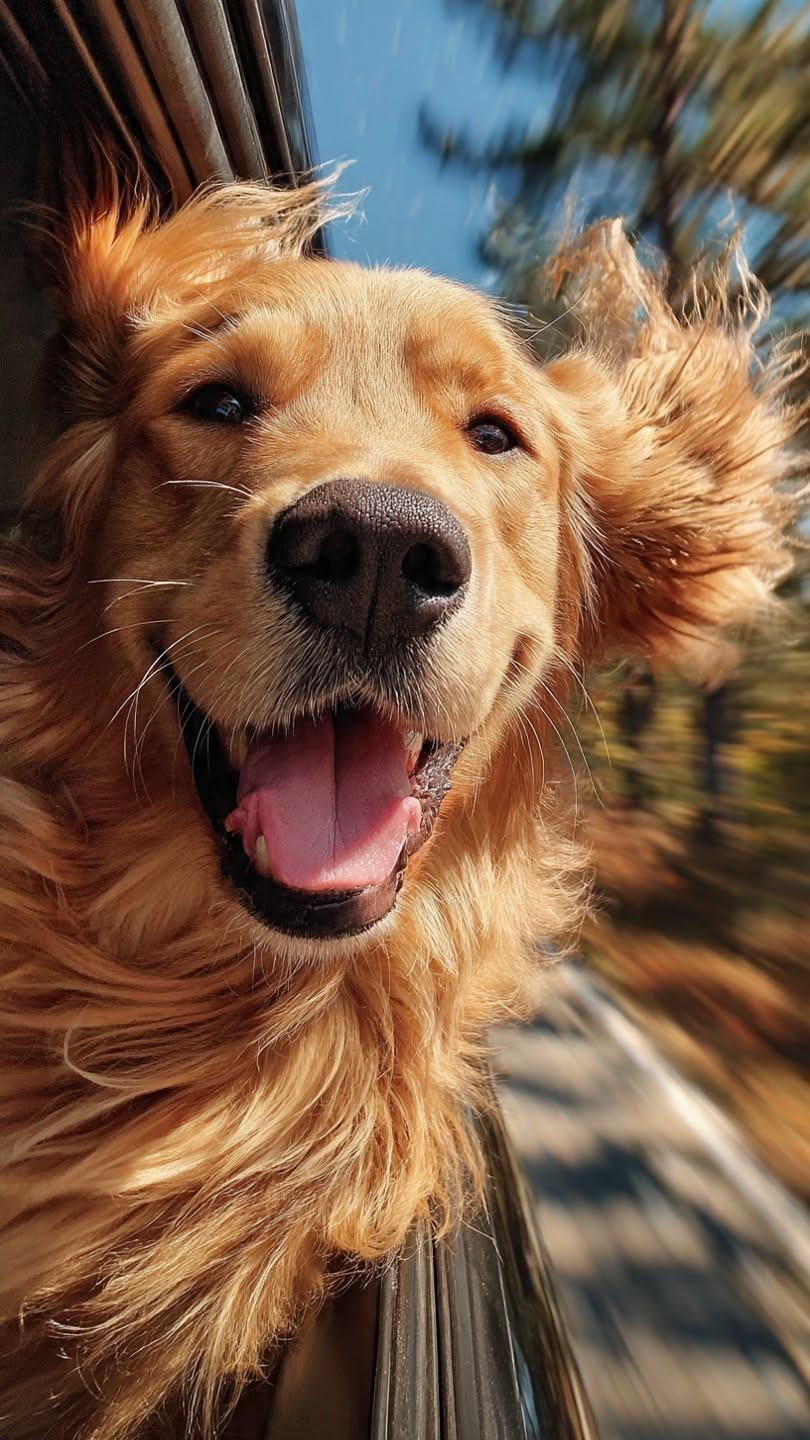adult_dog: (0, 154, 810, 1440)
